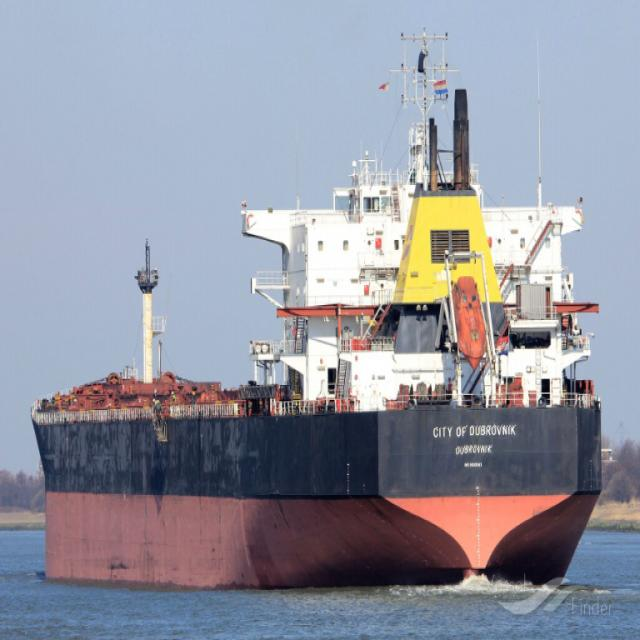OCR: (432, 422, 524, 474)
